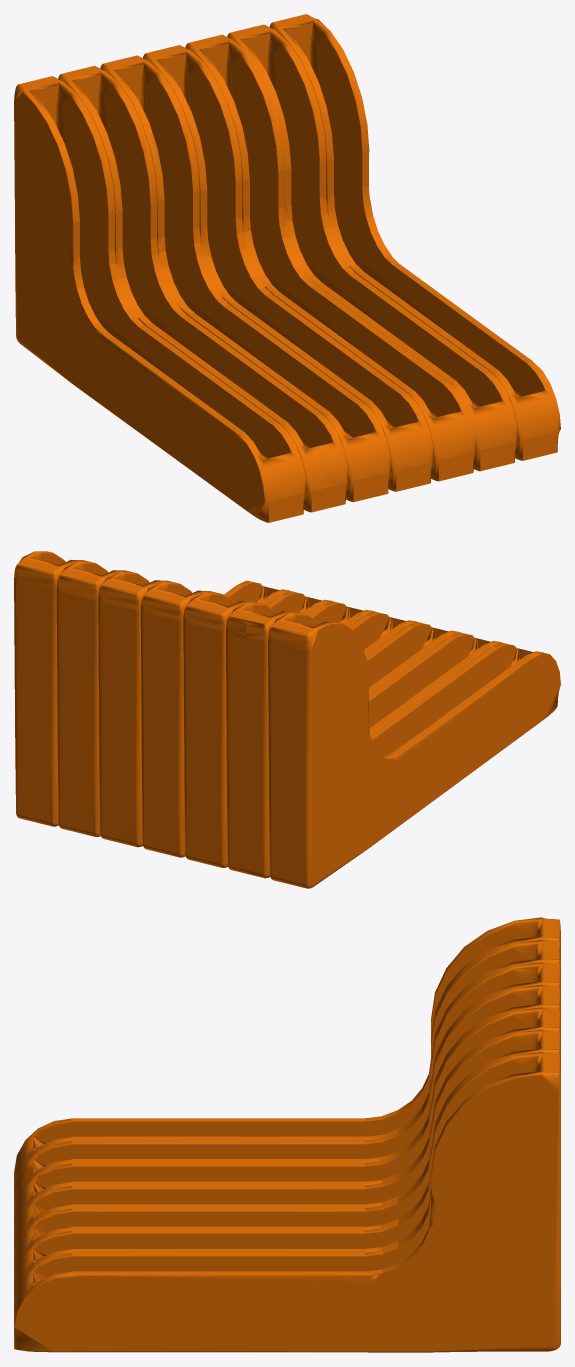
File: floppy-holder-7.glb
3 renders of one model, top to bottom at view 1: azimuth 30°, elevation 25°; view 2: azimuth 150°, elevation 25°; view 3: azimuth 270°, elevation 25°, orthographic. The views are drawn at different scales.
Visible parts, largest first — view 1: Cube.001; view 2: Cube.001; view 3: Cube.001.
Boxes of the visible parts, x1,y1,x2,y2 form: Cube.001: (14, 14, 560, 522); Cube.001: (14, 551, 560, 888); Cube.001: (14, 917, 560, 1352).
Bounding box in the file's own units: 1.21 × 1 × 1.77.
